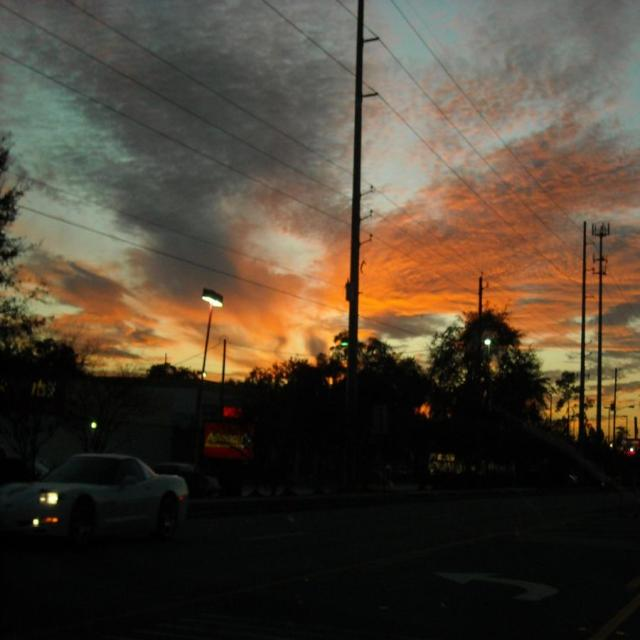Car: (1, 448, 189, 560)
